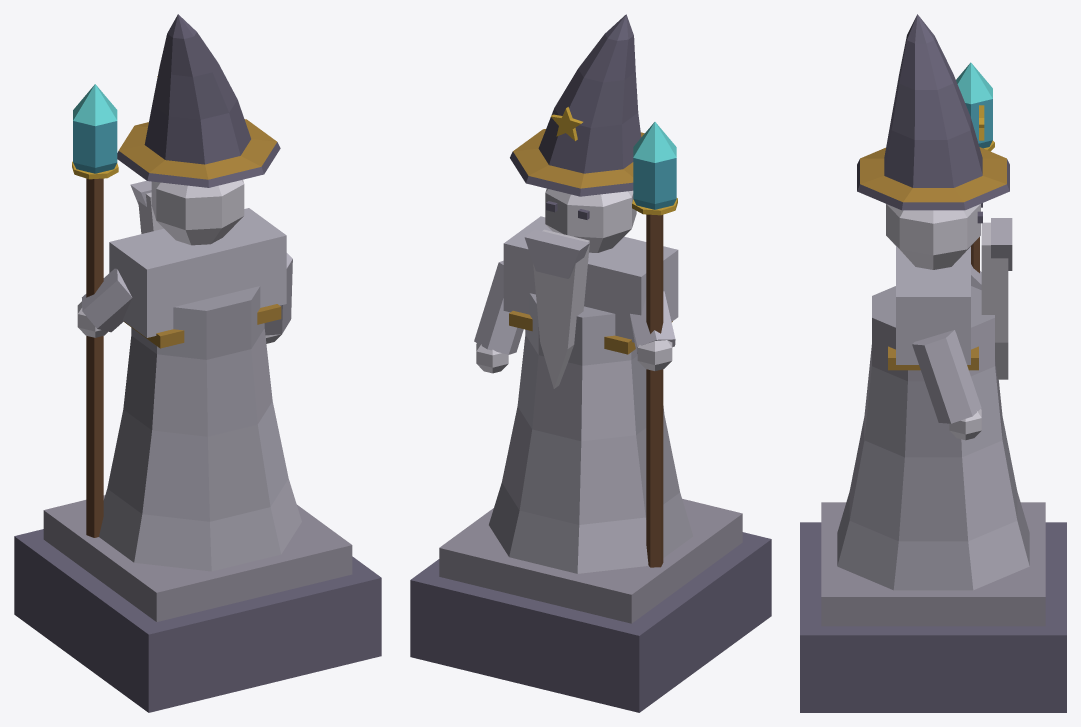
File: Decor_WizardTower_Statue.fbx
3 renders of one model, left to right at view 1: azimuth 30°, elevation 25°; view 2: azimuth 150°, elevation 25°; view 3: azimuth 270°, elevation 25°, orthographic.
Visible parts, largest first — view 1: Statue_Body; view 2: Statue_Body; view 3: Statue_Body.
Boxes of the visible parts, <box> form: Statue_Body: <box>14,14,381,712</box>; Statue_Body: <box>410,14,771,712</box>; Statue_Body: <box>800,14,1066,712</box>.
Bounding box in the file's own units: 10 × 26 × 10.
